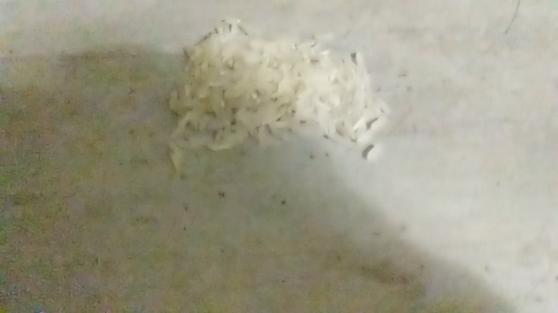rice: (146, 14, 416, 197)
